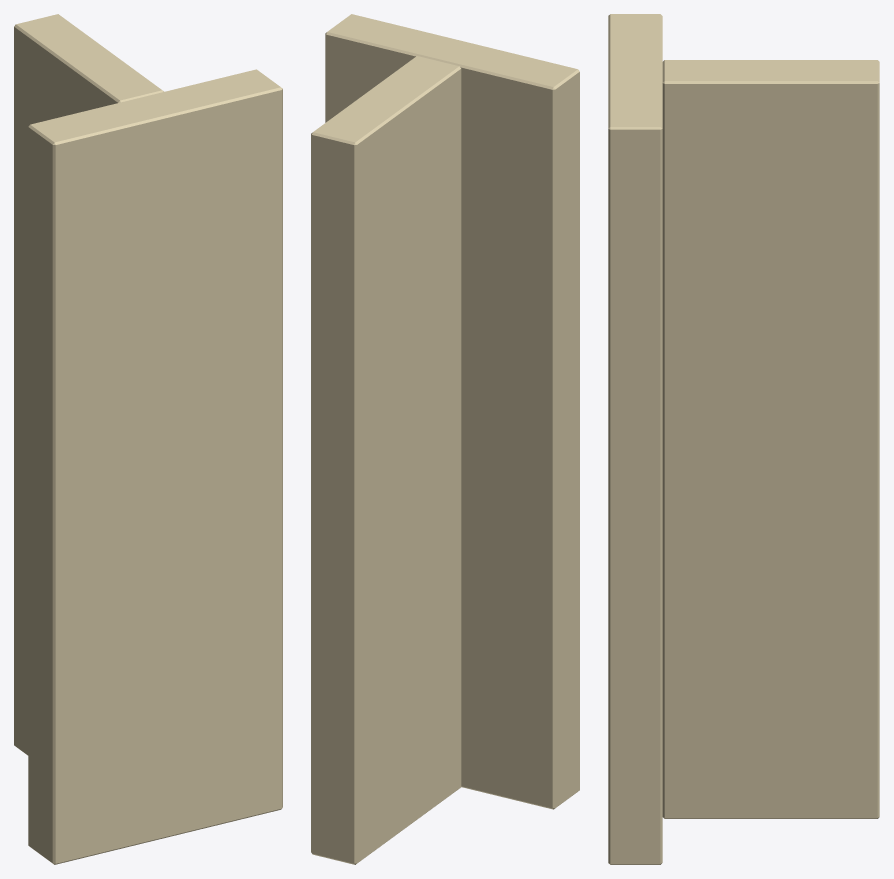
The model's file is b21_wall_t_junction_1m.glb.
3 views of the same model, side by side, from view 1: azimuth 30°, elevation 25°; view 2: azimuth 150°, elevation 25°; view 3: azimuth 270°, elevation 25° (orthographic). The views are drawn at different scales.
Parts seen in each view (by area): view 1: b21_wall_t_junction_1m; view 2: b21_wall_t_junction_1m; view 3: b21_wall_t_junction_1m.
Part boxes in pixels (x1,y1,x2,y2): b21_wall_t_junction_1m: (14, 14, 282, 864); b21_wall_t_junction_1m: (311, 14, 579, 864); b21_wall_t_junction_1m: (608, 14, 879, 864).
Size of the model in its own units: 1 by 3 by 1.
